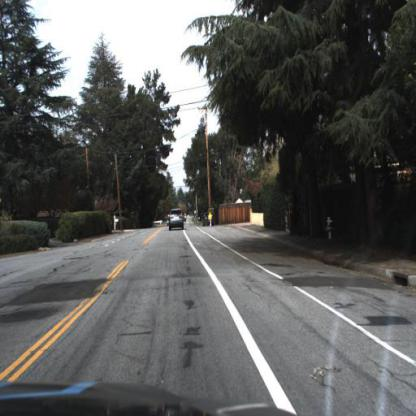car: (163, 206, 188, 237)
